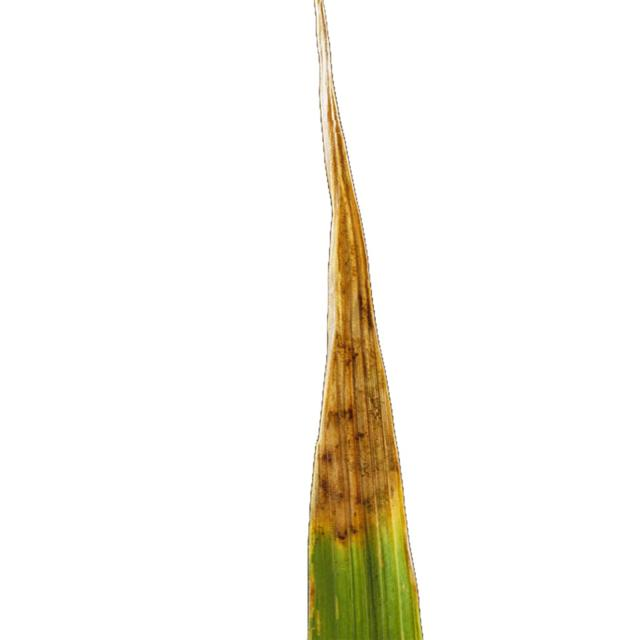Leaf scald: (152, 0, 448, 640)
